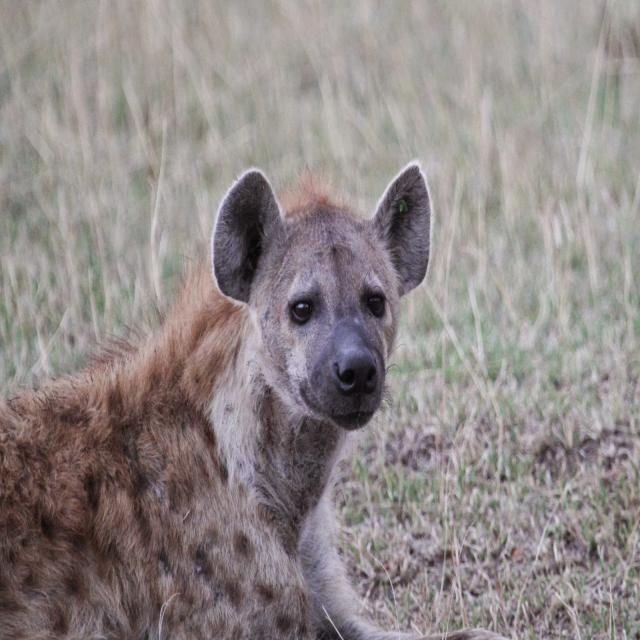Hyena: (0, 155, 440, 640)
